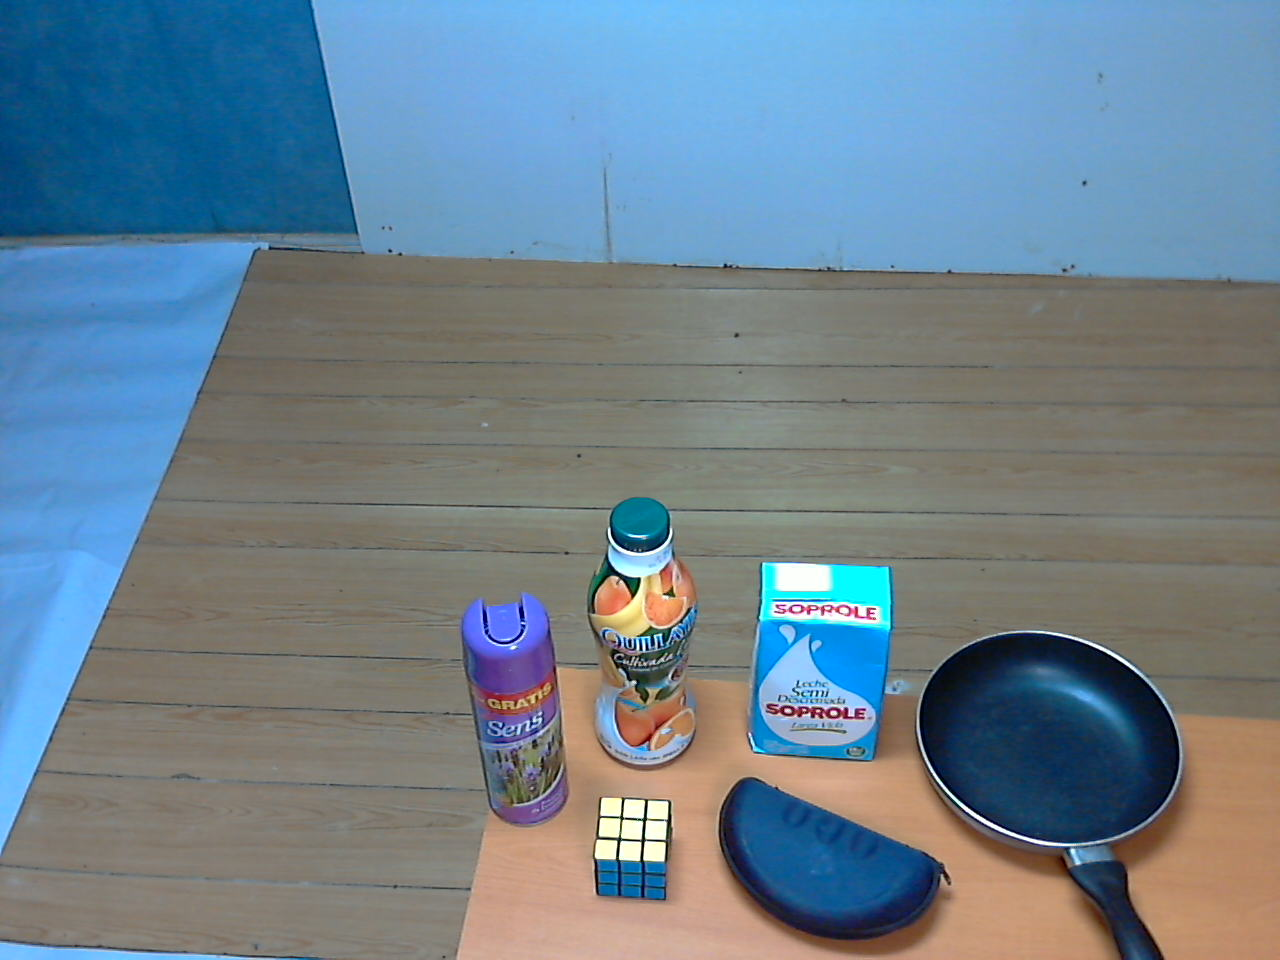aerosol: (451, 592, 579, 836)
cubix: (582, 788, 680, 910)
estuche: (703, 766, 959, 948)
leche: (739, 548, 901, 767)
sarten: (911, 625, 1197, 960)
yogurt: (577, 491, 710, 779)
